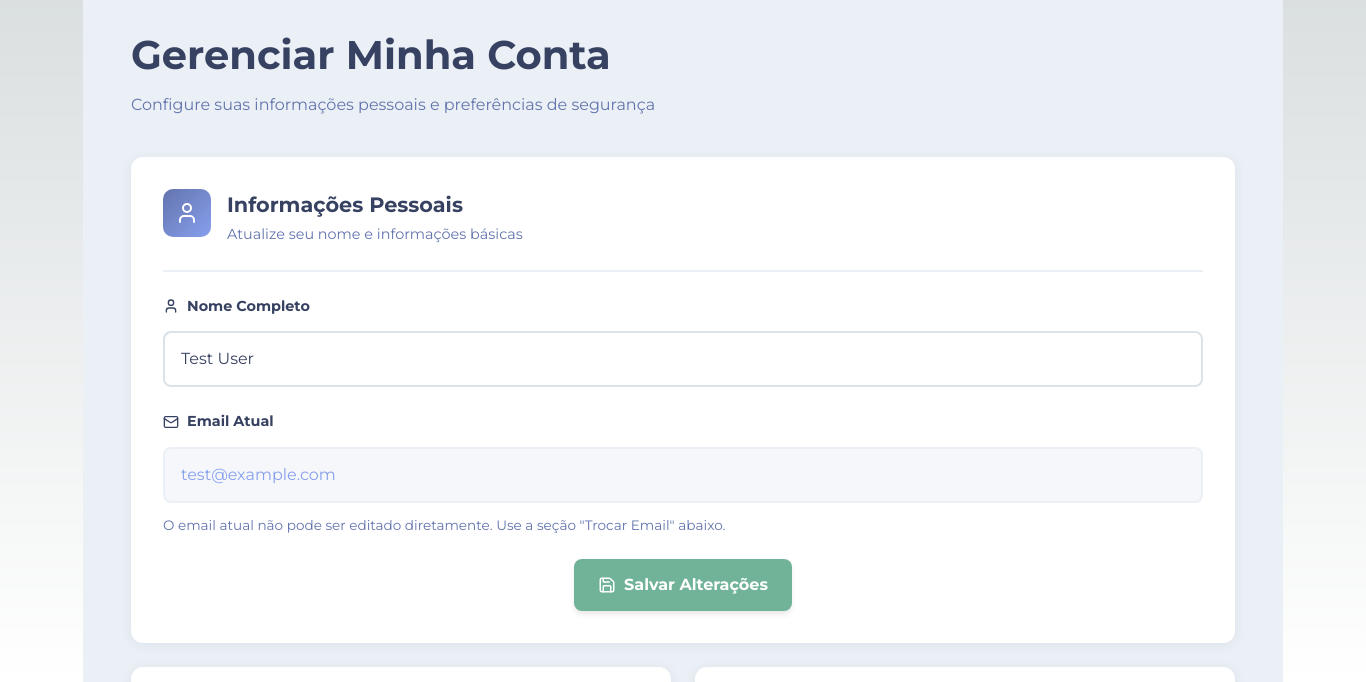
Scenario: UserEdit › deve exibir erro ao falhar na atualização
Step 1. Replace the text in the field labelled "Nome Completo" with "New Name" → [683, 359], box top-left (163, 331), bottom-right (1203, 387)
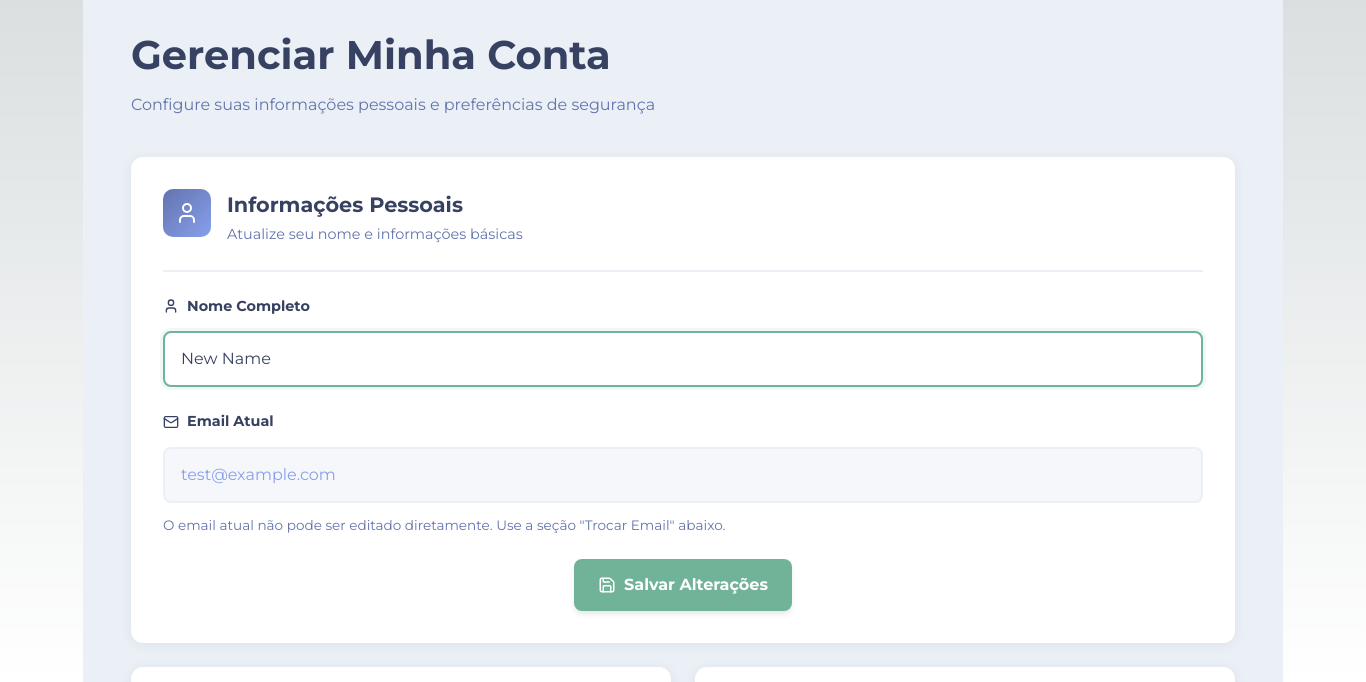
Step 2. Click the button "Salvar Alterações" → [683, 585], box top-left (574, 559), bottom-right (792, 611)
(page scrolled)
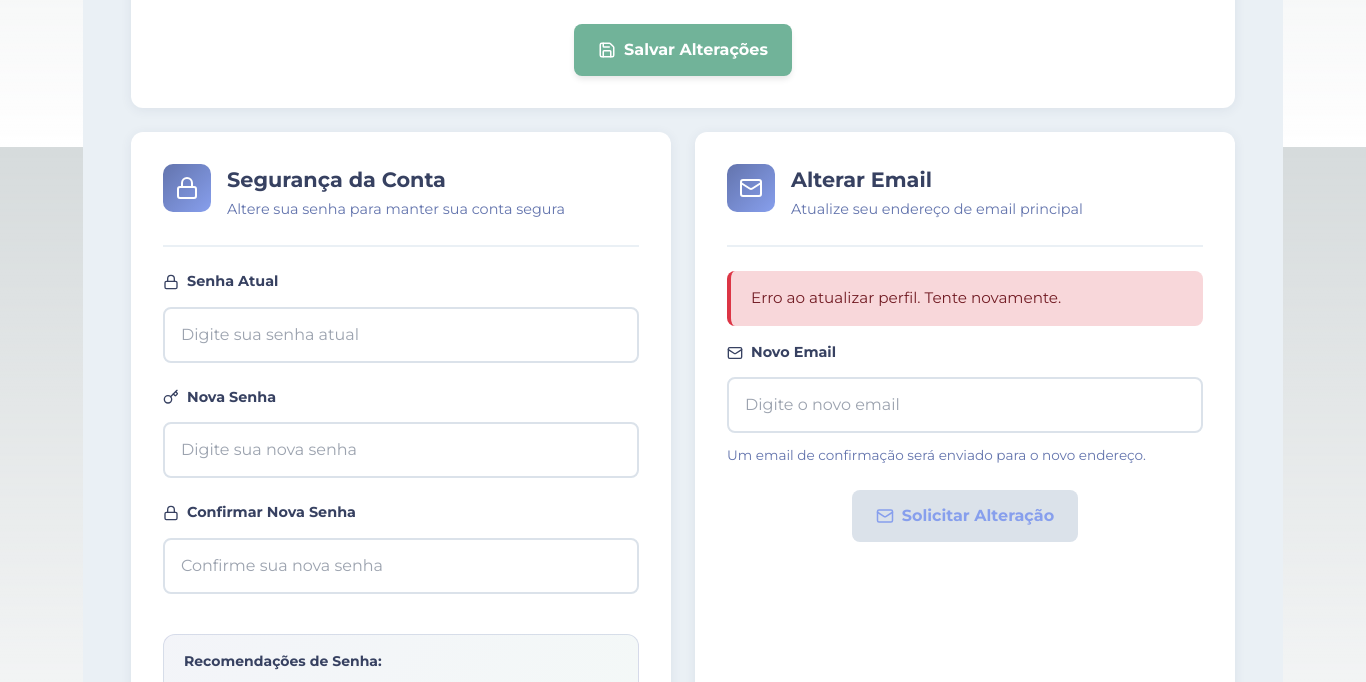
Expected: the text "Erro ao atualizar perfil. Tente novamente." is shown, top-left (727, 271), bottom-right (1203, 326)
